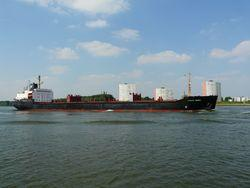Cargoship: (11, 62, 218, 115)
